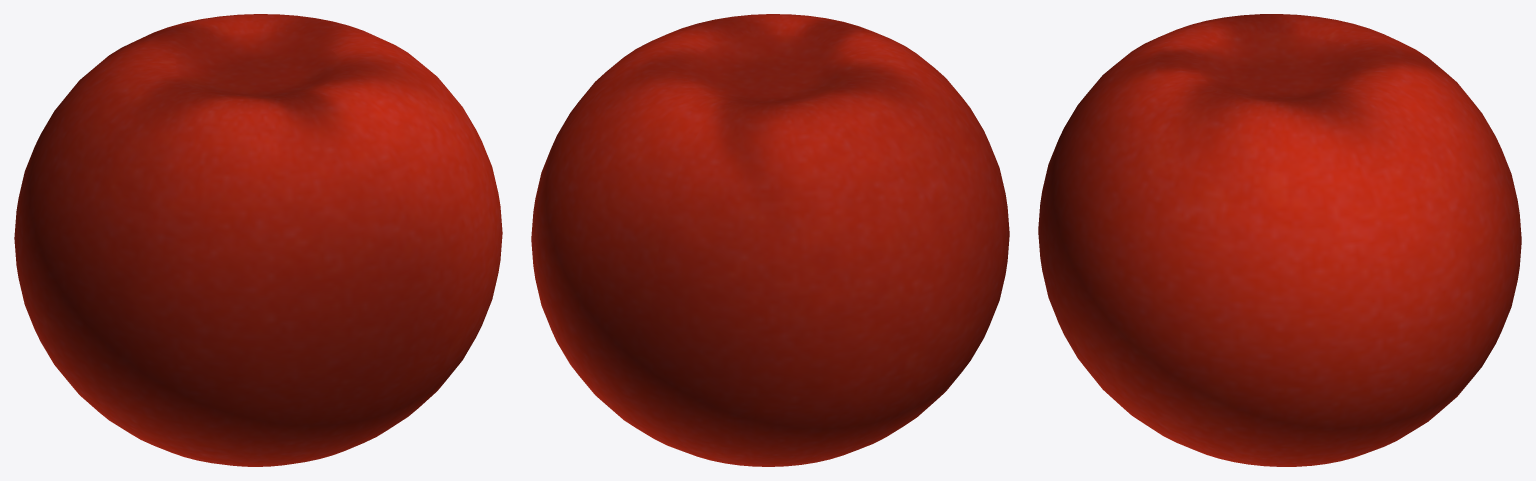
Rendered from tomato_05.obj.
3 renders of one model, left to right at view 1: azimuth 30°, elevation 25°; view 2: azimuth 150°, elevation 25°; view 3: azimuth 270°, elevation 25°, orthographic. The views are drawn at different scales.
Visible parts, largest first — view 1: tomato_05; view 2: tomato_05; view 3: tomato_05.
Part boxes in pixels (left/top/right/bottom): tomato_05: left=14, top=14, right=502, bottom=466; tomato_05: left=531, top=14, right=1009, bottom=466; tomato_05: left=1038, top=14, right=1521, bottom=466.
Bounding box in the file's own units: 3.71 × 3.25 × 3.71.
Materials: 1 (1 with a texture image).
